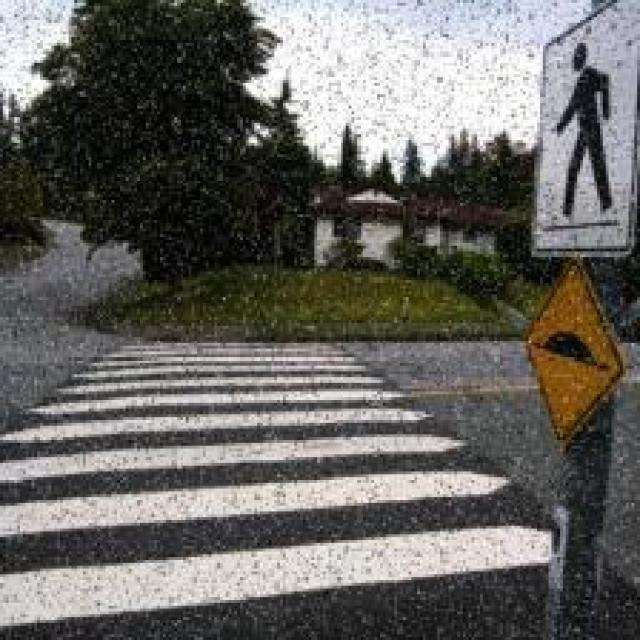crosswalk: (2, 323, 562, 634)
